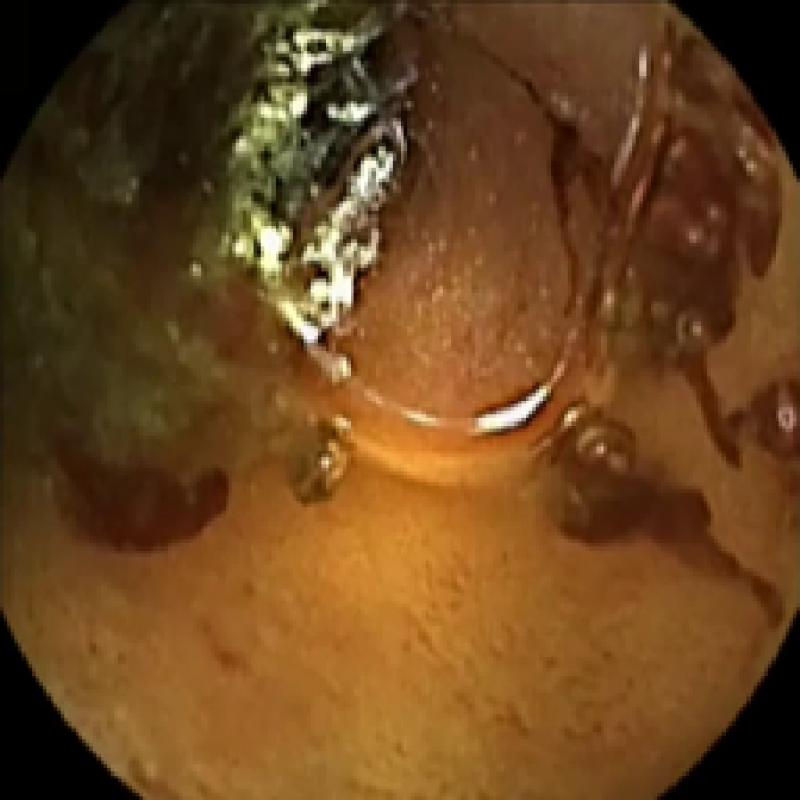bleeding: (511, 26, 798, 634), (54, 415, 227, 553)
